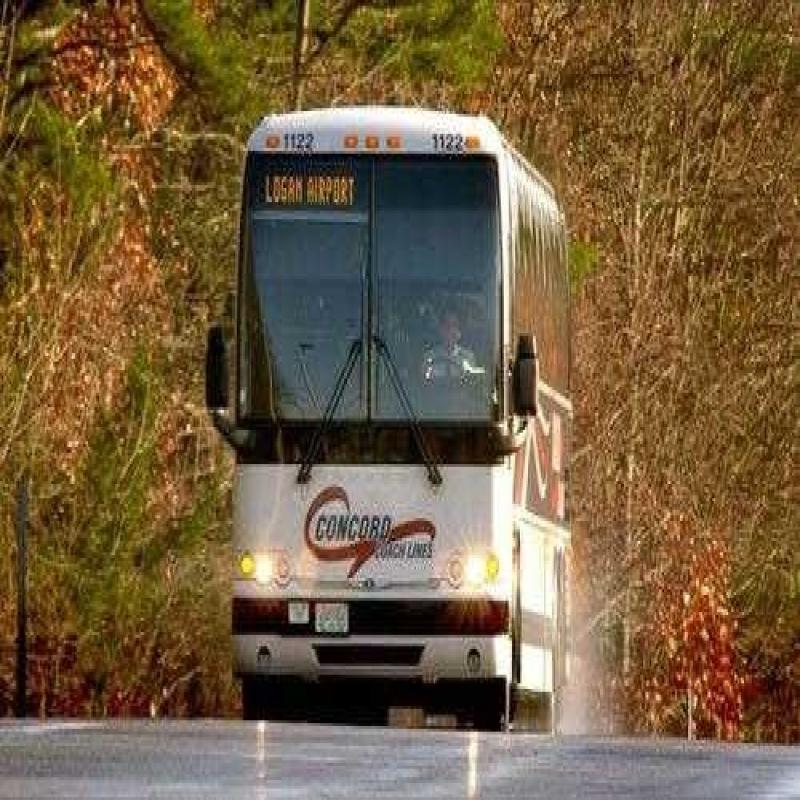bus: (222, 45, 591, 722)
